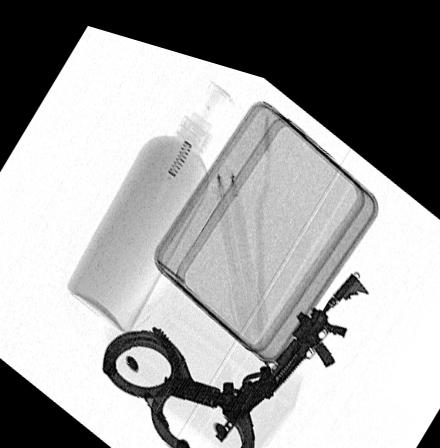Gun: (213, 250, 369, 430)
HandCuffs: (100, 316, 280, 448)
